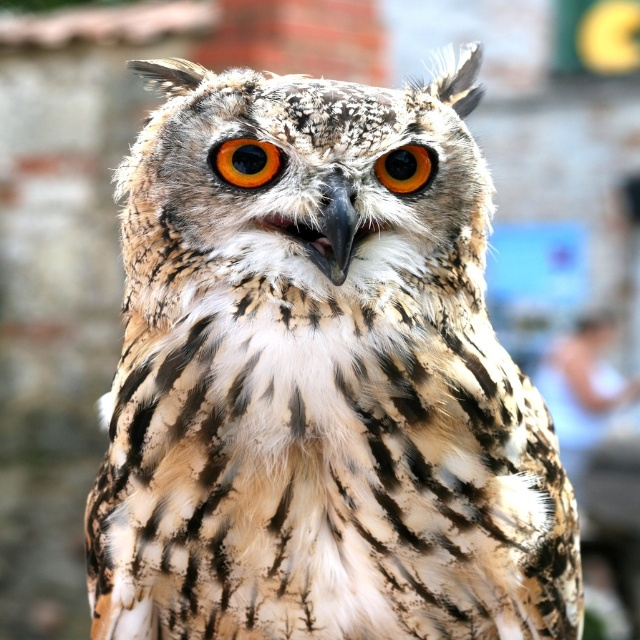Owl: (82, 34, 589, 640)
